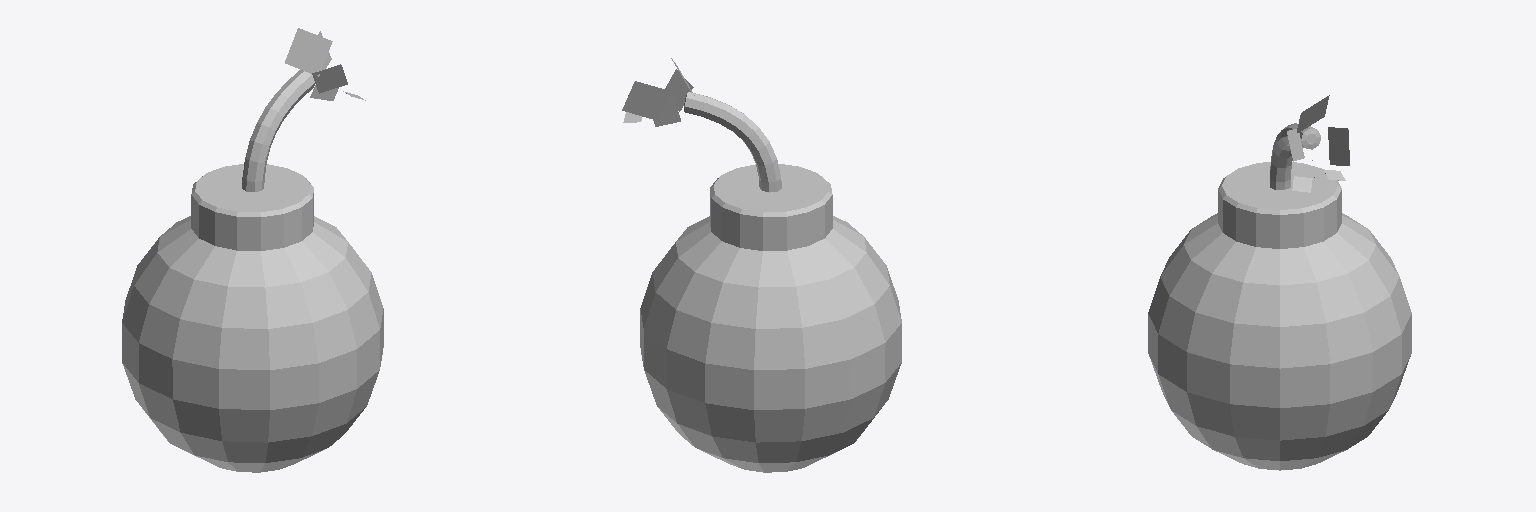
Rendered from bomb_000009.obj.
3 views of the same model, side by side, from view 1: azimuth 30°, elevation 25°; view 2: azimuth 150°, elevation 25°; view 3: azimuth 270°, elevation 25° (orthographic).
Visible parts, largest first — view 1: Sphere, NurbsPath, Plane_5.001_Mesh.001; view 2: Sphere, NurbsPath, Plane_5.001_Mesh.001; view 3: Sphere, Plane_5.001_Mesh.001, NurbsPath.
Part boxes in pixels (x1,y1,x2,y2): Sphere: (122, 164, 383, 472); NurbsPath: (242, 70, 315, 191); Plane_5.001_Mesh.001: (285, 28, 365, 100); Sphere: (640, 164, 901, 472); NurbsPath: (684, 92, 781, 192); Plane_5.001_Mesh.001: (622, 58, 694, 126); Sphere: (1148, 162, 1411, 470); Plane_5.001_Mesh.001: (1287, 95, 1349, 192); NurbsPath: (1270, 123, 1320, 189).
Size of the model in its own units: 0.8772 by 1.38 by 0.8533.